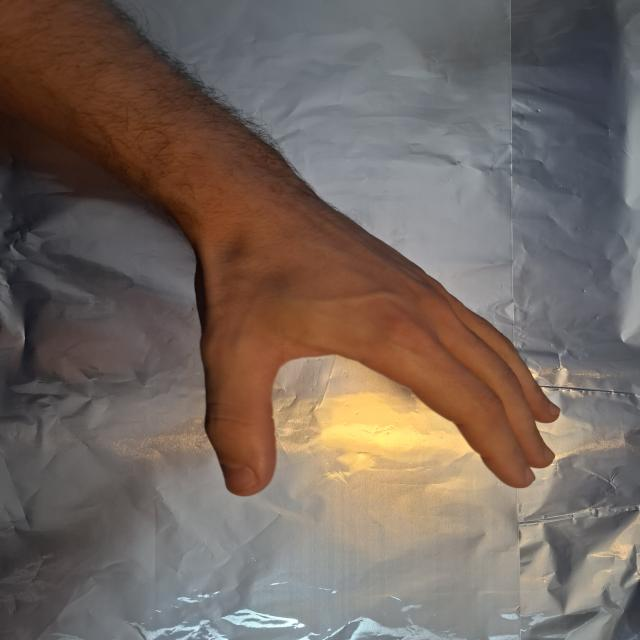glove_off: (177, 208, 567, 497)
